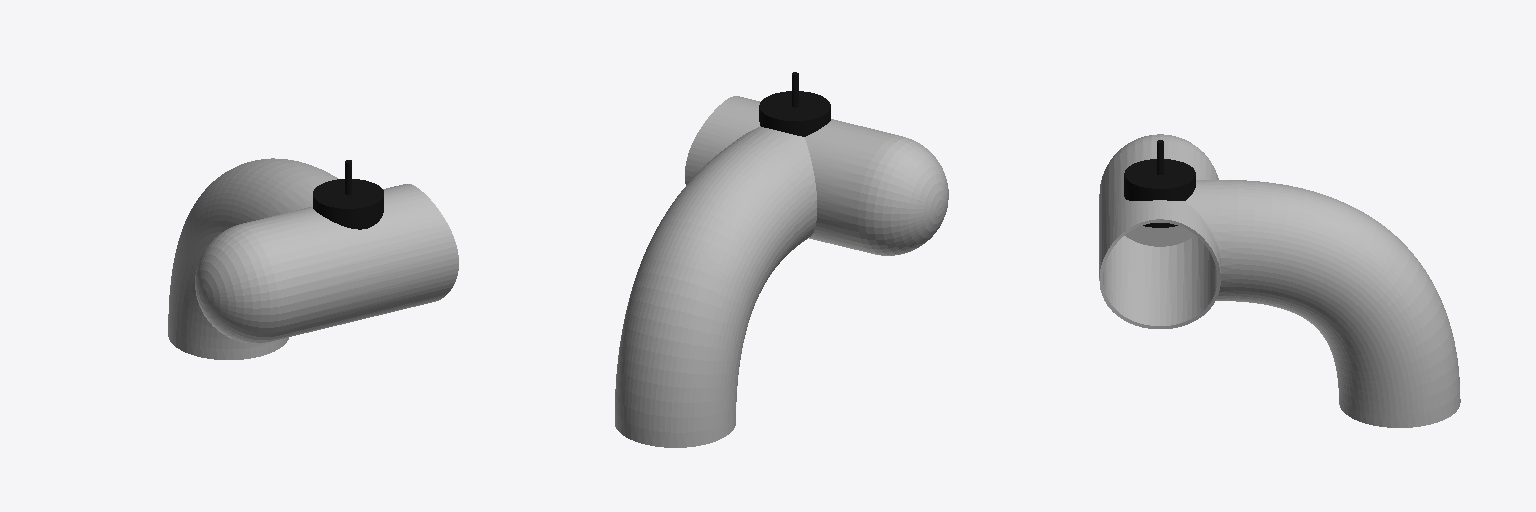
File: SupportPipeBR.obj
The picture shows the model from 3 angles: view 1: azimuth 30°, elevation 25°; view 2: azimuth 150°, elevation 25°; view 3: azimuth 270°, elevation 25°; orthographic projection.
Visible parts, largest first — view 1: SupportPipeBR_Support_Pipe_v16.006; view 2: SupportPipeBR_Support_Pipe_v16.006; view 3: SupportPipeBR_Support_Pipe_v16.006.
Boxes of the visible parts, x1,y1,x2,y2 form: SupportPipeBR_Support_Pipe_v16.006: [168, 158, 458, 359]; SupportPipeBR_Support_Pipe_v16.006: [615, 72, 948, 447]; SupportPipeBR_Support_Pipe_v16.006: [1099, 134, 1460, 427].
Size of the model in its own units: 0.0728 by 0.0805 by 0.101.